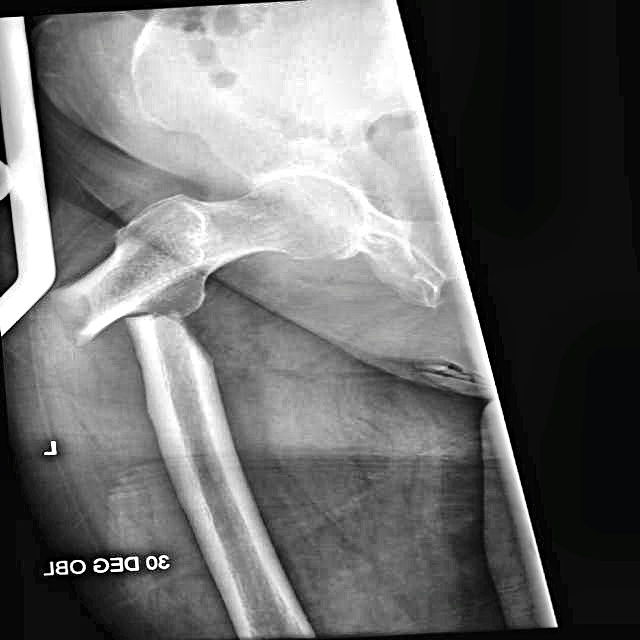Transverse: (41, 259, 219, 382)
